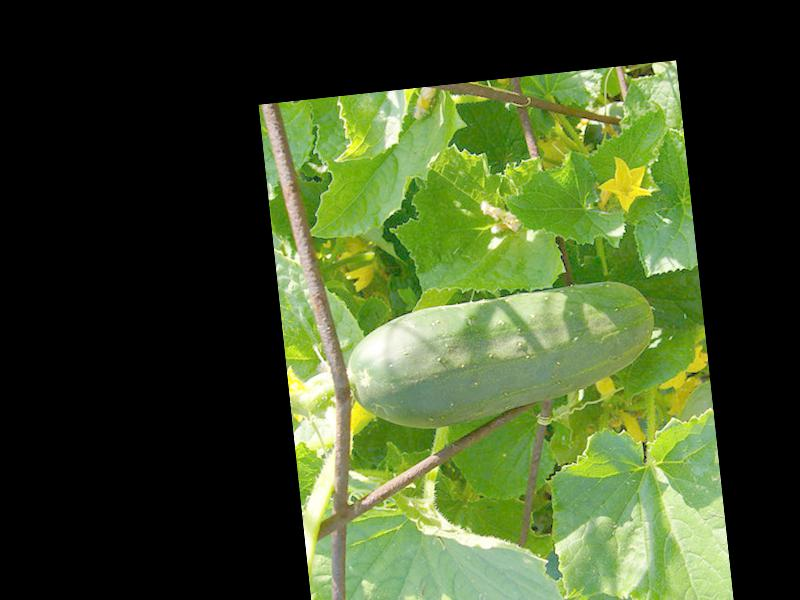Cucumber: (341, 276, 663, 439)
